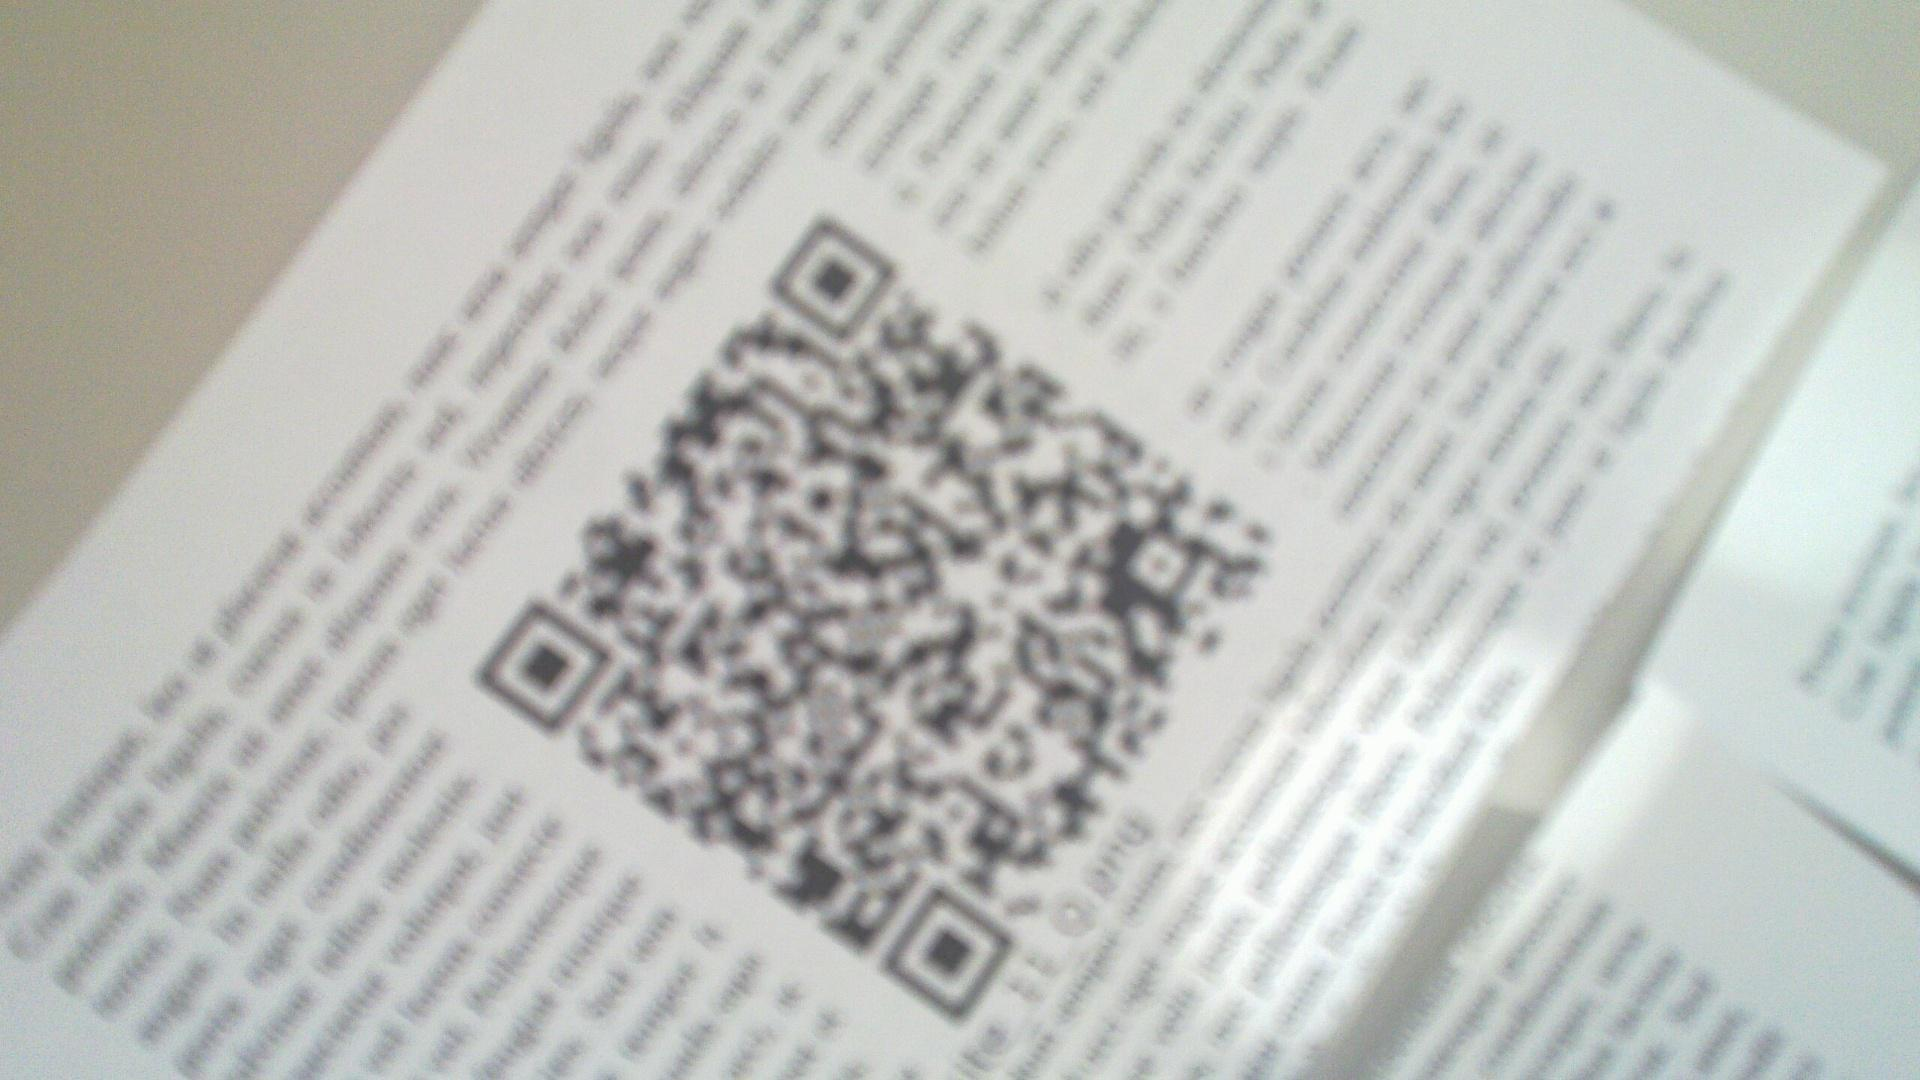Finder pattern: (761, 212, 909, 349), (463, 607, 616, 735), (876, 882, 1018, 1007)
